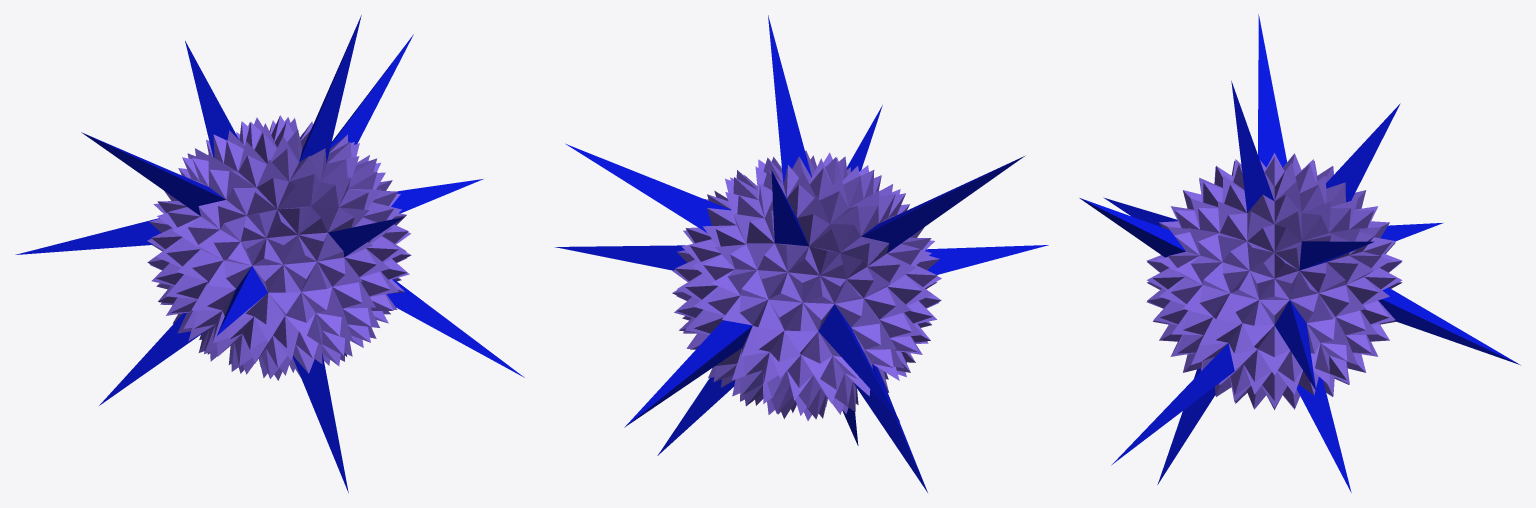
Rendered from Pointy Planet.fbx.
The picture shows the model from 3 angles, left to right: view 1: azimuth 30°, elevation 25°; view 2: azimuth 150°, elevation 25°; view 3: azimuth 270°, elevation 25°; orthographic projection. The views are drawn at different scales.
Parts seen in each view (by area): view 1: Icosphere; view 2: Icosphere; view 3: Icosphere.
Boxes of the visible parts, x1=… form: Icosphere: x1=15, y1=15, x2=524, y2=492; Icosphere: x1=555, y1=15, x2=1048, y2=492; Icosphere: x1=1079, y1=14, x2=1520, y2=492.
Bounding box in the file's own units: 5936 × 5754 × 5377.
